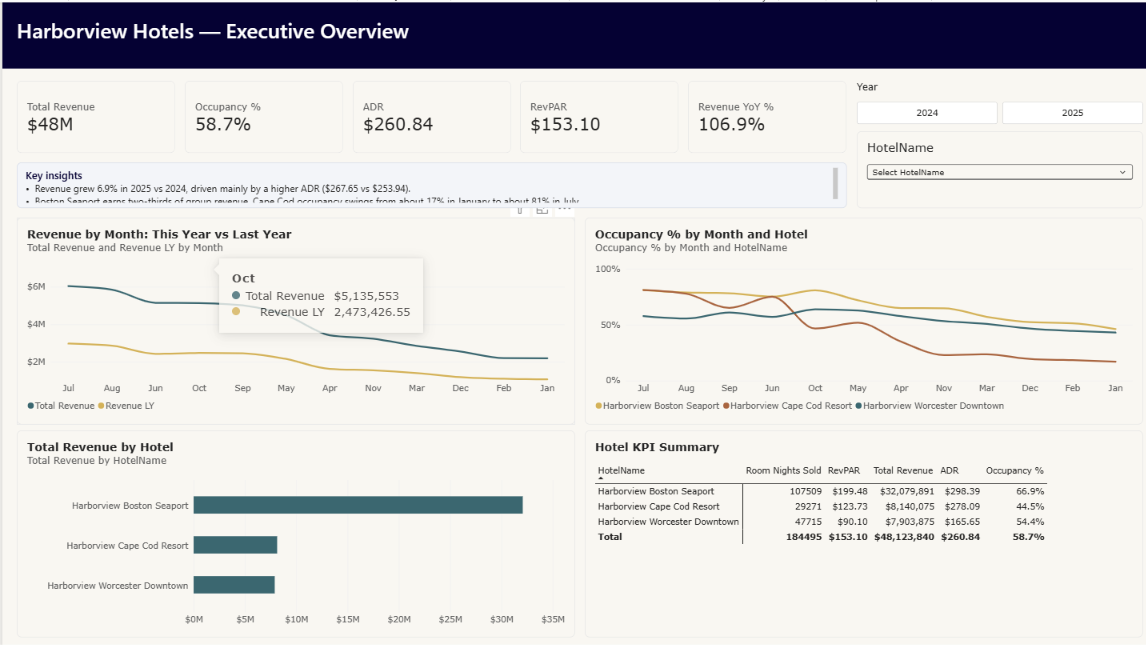

Layout of this report page (visuals, bound fields, positions):
{"tool":"powerbi","page":{"name":"Executive Overview","canvas":[1920,1080],"ordinal":0},"visuals":[{"type":"advancedSlicerVisual","fields":{"Values":["Date.Year"]},"box":[1420,130,476,72],"z":0},{"type":"listSlicer","fields":{"Values":["Hotels.HotelName"]},"box":[1420,214,476,128],"z":1000},{"type":"cardVisual","fields":{"Data":["_Measure.Total Revenue"]},"box":[24,130,263,120],"z":2000},{"type":"cardVisual","fields":{"Data":["_Measure.Revenue YoY %"]},"box":[1140,130,263,120],"z":3000},{"type":"cardVisual","fields":{"Data":["_Measure.ADR"]},"box":[582,130,263,120],"z":4000},{"type":"cardVisual","fields":{"Data":["_Measure.Occupancy %"]},"box":[303,130,263,120],"z":5000},{"type":"cardVisual","fields":{"Data":["_Measure.RevPAR"]},"box":[861,130,263,120],"z":6000},{"type":"lineChart","title":"Revenue by Month: This Year vs Last Year","fields":{"Category":["Date.Month"],"Y":["_Measure.Total Revenue","_Measure.Revenue LY"]},"box":[24,358,928,344],"z":7000},{"type":"lineChart","title":"Occupancy % by Month and Hotel","fields":{"Category":["Date.Month"],"Series":["Hotels.HotelName"],"Y":["_Measure.Occupancy %"]},"box":[968,358,928,344],"z":8000},{"type":"textbox","box":[24,266,1380,76],"z":8500},{"type":"clusteredBarChart","title":"Total Revenue by Hotel","fields":{"Category":["Hotels.HotelName"],"Y":["_Measure.Total Revenue"]},"box":[24,712,928,344],"z":9000},{"type":"pageNavigator","box":[1296,30,600,50],"z":9500},{"type":"pivotTable","title":"Hotel KPI Summary","fields":{"Rows":["Hotels.HotelName"],"Values":["_Measure.Room Nights Sold","_Measure.RevPAR","_Measure.Total Revenue","_Measure.ADR","_Measure.Occupancy %"]},"box":[968,712,928,344],"z":10000},{"type":"shape","box":[0,0,1920,110],"z":10001},{"type":"textbox","box":[24,22,1240,70],"z":10003}]}

Visuals, with their boxes in screenshot pixels (x1, y1, x2, y2), scaled from the page's 1920x1080 canvas onto the 1146x645 screenshot:
advancedSlicerVisual - Date.Year: box=[848, 78, 1132, 121]
listSlicer - Hotels.HotelName: box=[848, 128, 1132, 204]
cardVisual - _Measure.Total Revenue: box=[14, 78, 171, 149]
cardVisual - _Measure.Revenue YoY %: box=[680, 78, 837, 149]
cardVisual - _Measure.ADR: box=[347, 78, 504, 149]
cardVisual - _Measure.Occupancy %: box=[181, 78, 338, 149]
cardVisual - _Measure.RevPAR: box=[514, 78, 671, 149]
"Revenue by Month: This Year vs Last Year" lineChart: box=[14, 214, 568, 419]
"Occupancy % by Month and Hotel" lineChart: box=[578, 214, 1132, 419]
textbox: box=[14, 159, 838, 204]
"Total Revenue by Hotel" clusteredBarChart: box=[14, 425, 568, 631]
pageNavigator: box=[774, 18, 1132, 48]
"Hotel KPI Summary" pivotTable: box=[578, 425, 1132, 631]
shape: box=[0, 0, 1145, 66]
textbox: box=[14, 13, 754, 55]
